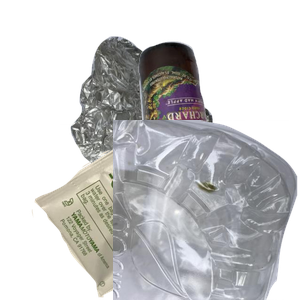glass: (136, 39, 300, 219)
metal: (68, 34, 300, 214)
plastic: (113, 120, 300, 300)
trash: (29, 124, 238, 300)
